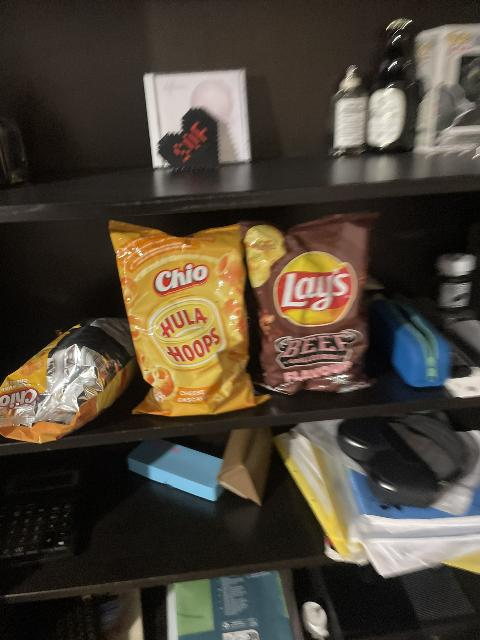Chio Cascaval 125g: (0, 315, 140, 440)
Chio Hula Hoops Cheese 70g: (108, 220, 269, 410)
Lays Beef Grilled Ribs 125g: (246, 214, 367, 390)
